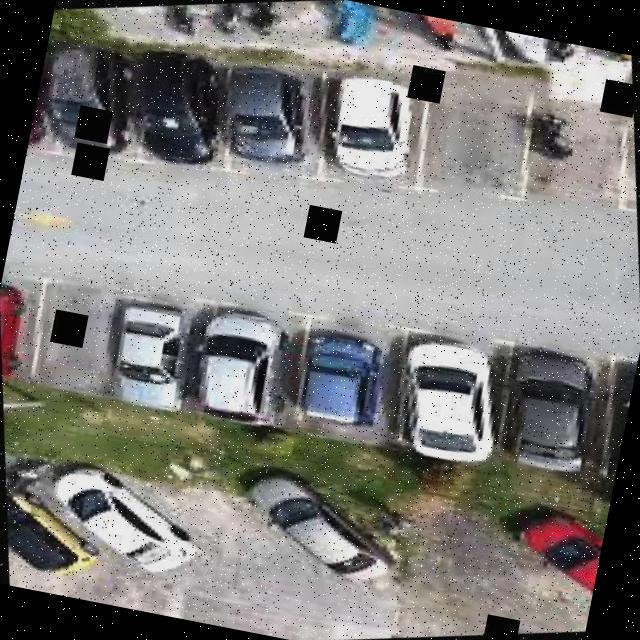space-empty: (374, 40, 582, 236), (466, 34, 640, 243), (0, 253, 166, 424), (561, 70, 640, 254)
space-occupied: (451, 309, 640, 512), (362, 300, 548, 494), (153, 267, 339, 459), (270, 294, 446, 473), (185, 34, 355, 210), (294, 36, 454, 210), (77, 267, 239, 438), (94, 25, 255, 196), (24, 18, 168, 184)
